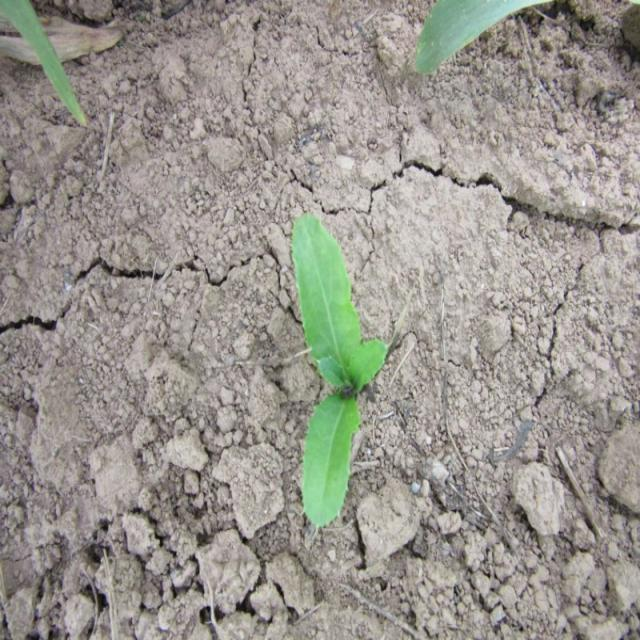field_thistle: (246, 173, 388, 526)
